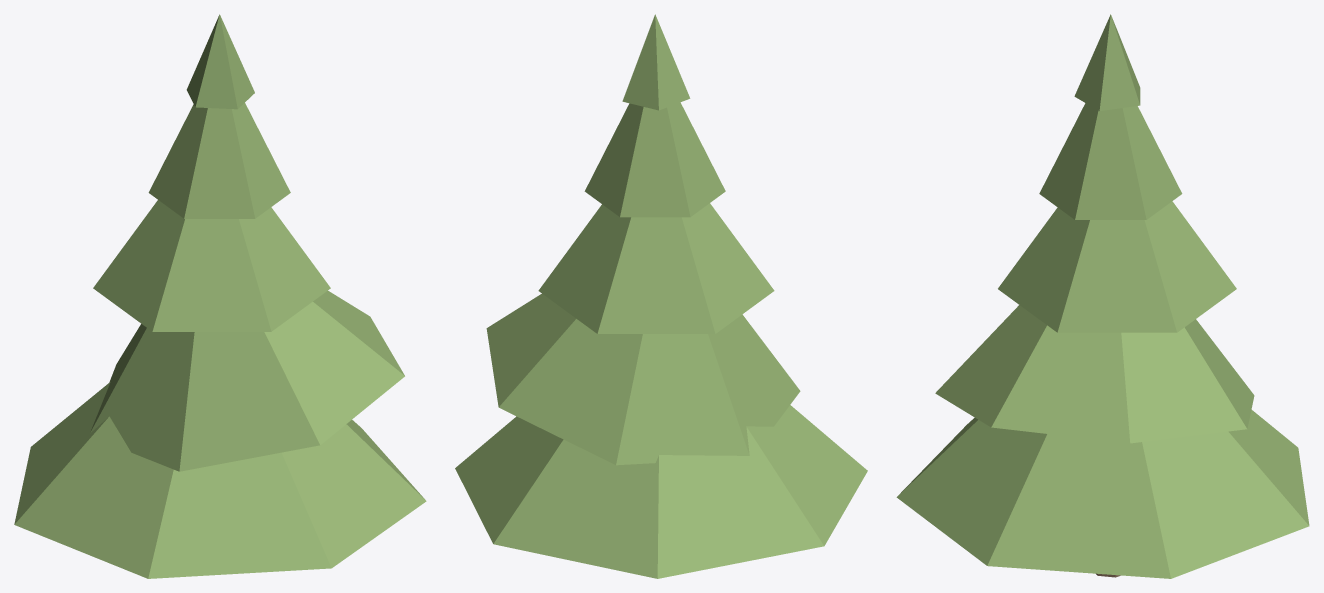
File: pine.glb
3 renders of one model, left to right at view 1: azimuth 30°, elevation 25°; view 2: azimuth 150°, elevation 25°; view 3: azimuth 270°, elevation 25°, orthographic.
Visible parts, largest first — view 1: Bough_0, Bough_1, Bough_2, Bough_3, Bough_4; view 2: Bough_0, Bough_1, Bough_2, Bough_3, Bough_4; view 3: Bough_0, Bough_1, Bough_2, Bough_3, Bough_4.
Part boxes in pixels (<box>): Bough_0: <box>14,382,426,578</box>; Bough_1: <box>90,291,404,471</box>; Bough_2: <box>93,200,330,331</box>; Bough_3: <box>148,103,290,218</box>; Bough_4: <box>186,14,254,109</box>; Bough_0: <box>455,405,867,578</box>; Bough_1: <box>486,294,800,465</box>; Bough_2: <box>538,203,774,333</box>; Bough_3: <box>584,102,725,217</box>; Bough_4: <box>622,14,690,110</box>; Bough_0: <box>896,409,1309,578</box>; Bough_1: <box>935,305,1254,443</box>; Bough_2: <box>998,201,1236,332</box>; Bough_3: <box>1039,103,1182,219</box>; Bough_4: <box>1074,14,1140,111</box>.
Bounding box in the file's own units: 3.21 × 4.7 × 3.17.
